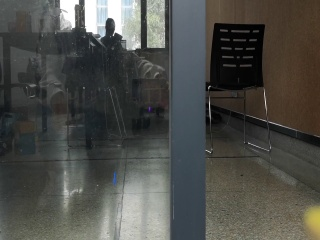room: (5, 2, 298, 238)
